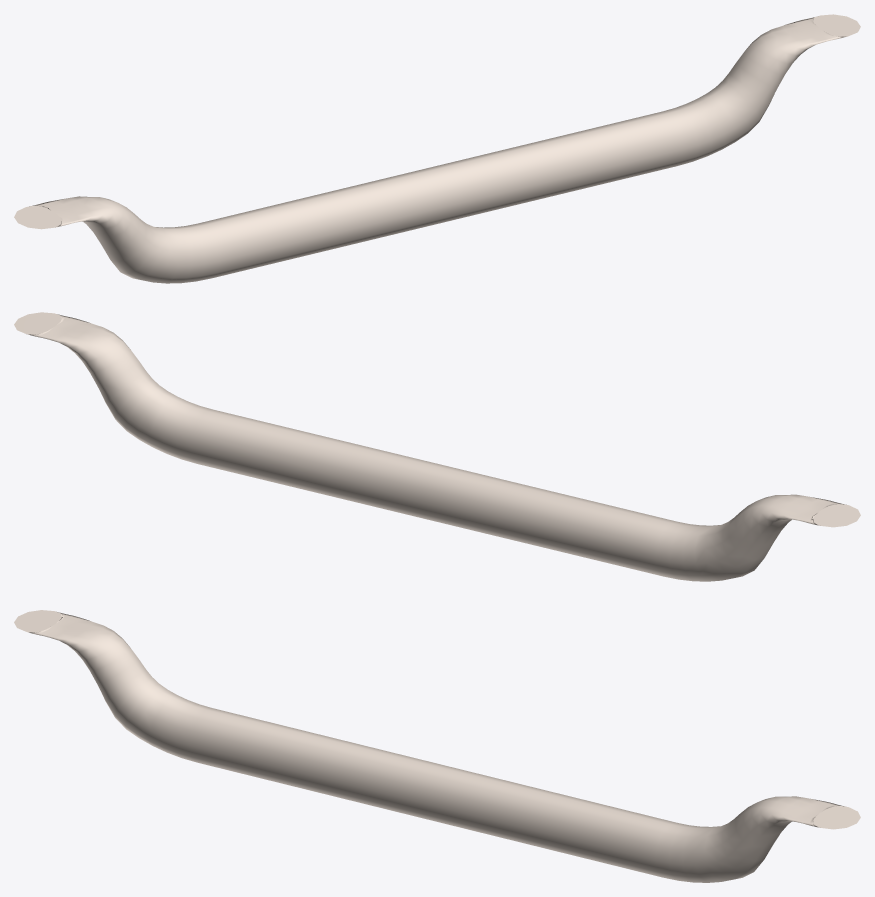
Rendered from ThorkeaDeskDrawerAlveRobothorDeskDrawerAlve_1_GeomSubset_1.obj.
The picture shows the model from 3 angles, top to bottom: view 1: azimuth 30°, elevation 25°; view 2: azimuth 150°, elevation 25°; view 3: azimuth 330°, elevation 25°; orthographic projection.
Parts seen in each view (by area): view 1: ThorkeaDeskDrawerAlveRobothorDeskDrawerAlve_1_GeomSubset_1; view 2: ThorkeaDeskDrawerAlveRobothorDeskDrawerAlve_1_GeomSubset_1; view 3: ThorkeaDeskDrawerAlveRobothorDeskDrawerAlve_1_GeomSubset_1.
Part boxes in pixels (x1,y1,x2,y2): ThorkeaDeskDrawerAlveRobothorDeskDrawerAlve_1_GeomSubset_1: (14,14,860,283); ThorkeaDeskDrawerAlveRobothorDeskDrawerAlve_1_GeomSubset_1: (14,312,860,581); ThorkeaDeskDrawerAlveRobothorDeskDrawerAlve_1_GeomSubset_1: (14,610,860,882).
Size of the model in its own units: 0.1709 by 0.0199 by 0.0101.
1 material, 1 textured.
